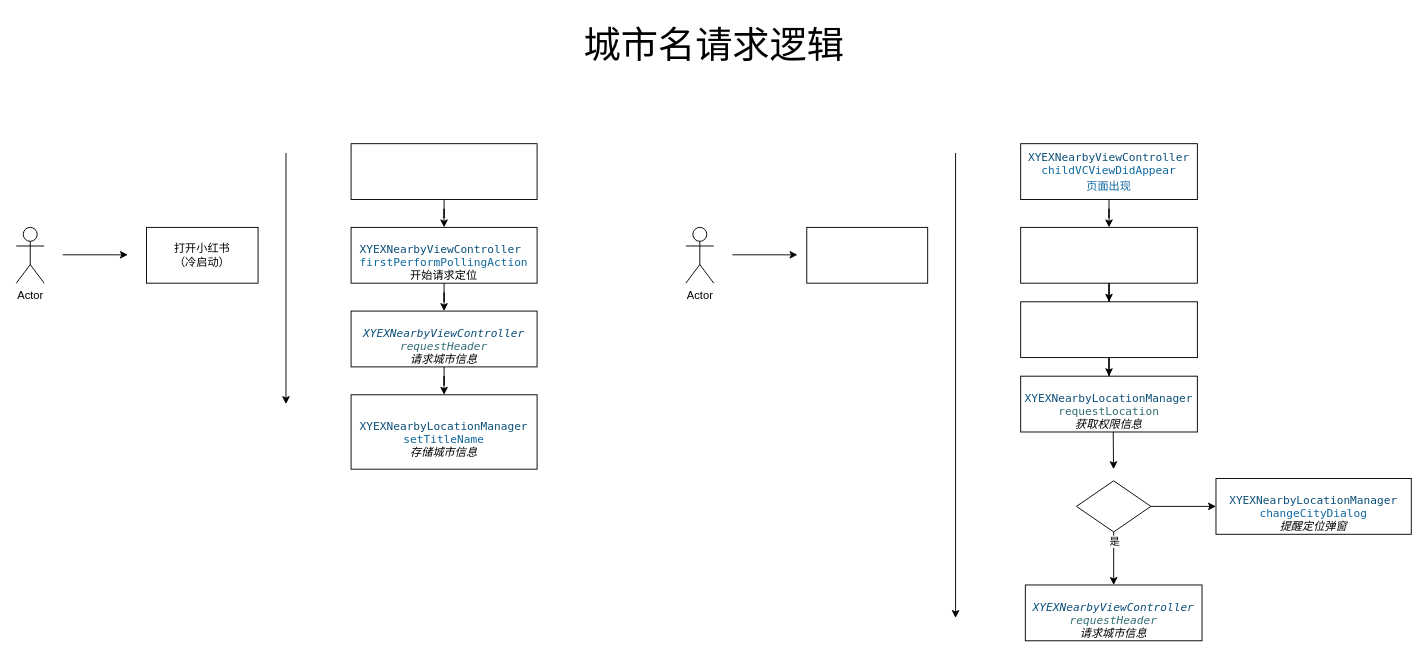
Image size: 1428x657. Some labels were removed from this diagram. Here are the shapes that lost their labels. From the top down, the box of each, then its label:
(350, 143, 537, 199): XYPHHomeTabbarController exploreFeedLoadHasFinished 首刷完成
(806, 226, 928, 283): 进入同城 （热 启、点击、侧滑 ）
(1020, 226, 1197, 283): XYEXNearbyViewController notFirstAppearAction 开始请求定位
(1020, 301, 1197, 358): XYEXNearbyViewController locationShouldAuthorized 定位鉴权
(1076, 480, 1151, 532): 是否有权限
